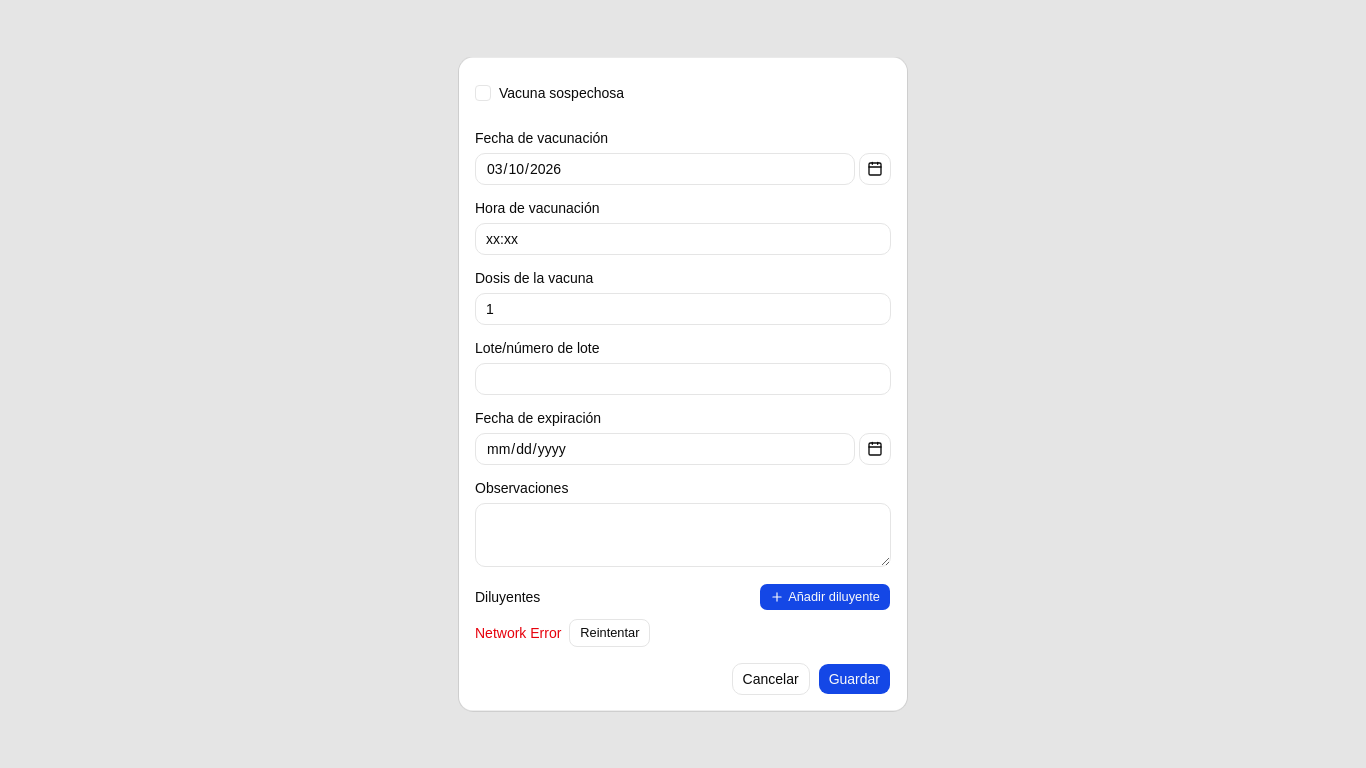
Test: VaccineFormDialog — SPEC FE12c §4 paso 8 › un vaccinationTime de servidor inválido muestra el mensaje de error y no dispara el PUT
(page scrolled)
Expected: the field labelled "Hora de vacunación" is shown, [475, 223, 891, 255]
What coordinates should you click on to do the following:
click the button "Guardar"
I would click on:
 (854, 679)
Its box is [818, 663, 891, 695].
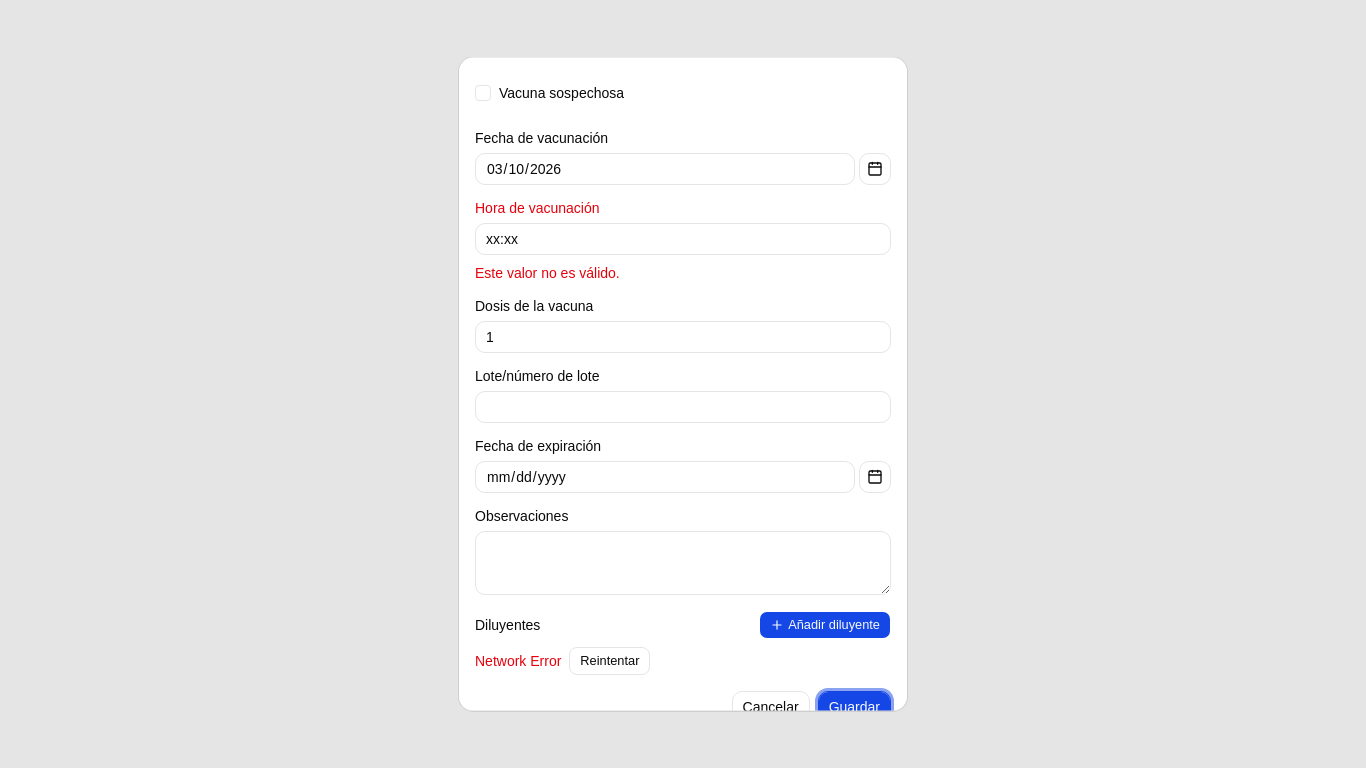
Expected: the text "Este valor no es válido." is shown, [475, 265, 620, 281]
